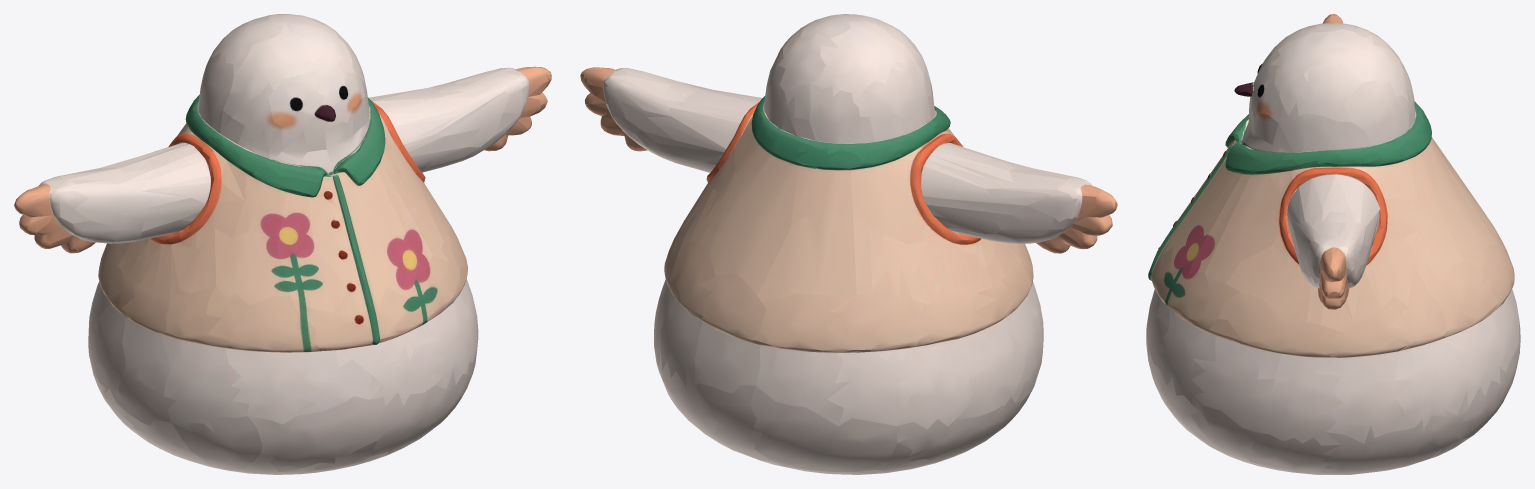
The model's file is joud.glb.
The picture shows the model from 3 angles, left to right: view 1: azimuth 30°, elevation 25°; view 2: azimuth 150°, elevation 25°; view 3: azimuth 270°, elevation 25°; orthographic projection. The views are drawn at different scales.
Parts seen in each view (by area): view 1: JoudBird; view 2: JoudBird; view 3: JoudBird.
Boxes of the visible parts, x1=… form: JoudBird: x1=14, y1=14, x2=551, y2=474; JoudBird: x1=580, y1=14, x2=1117, y2=474; JoudBird: x1=1146, y1=14, x2=1520, y2=474.
Bounding box in the file's own units: 1.9 × 1.39 × 1.17.
Materials: 1 (1 with a texture image).
